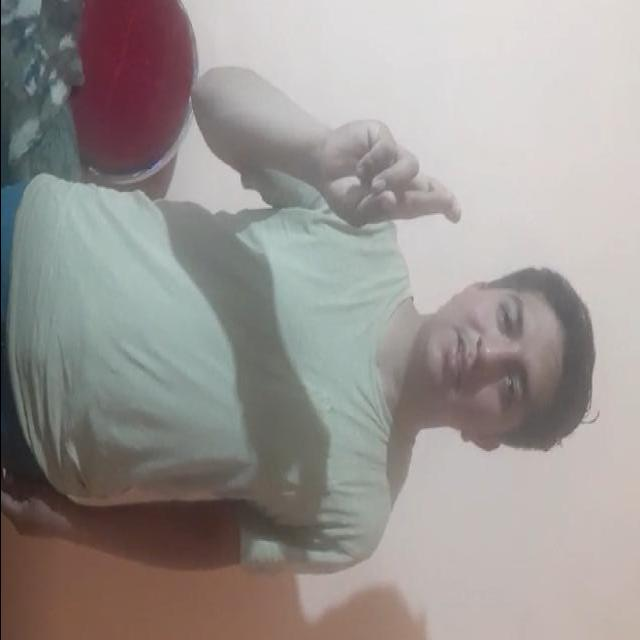R: (280, 92, 475, 280)
